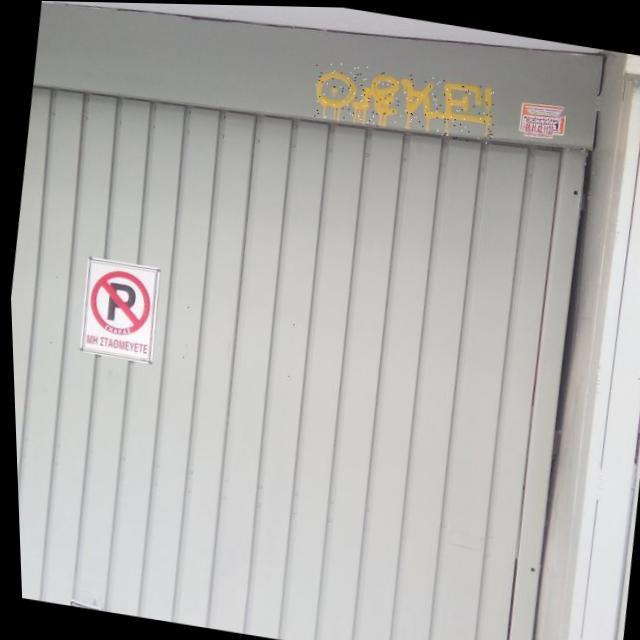-: (309, 57, 498, 143)
